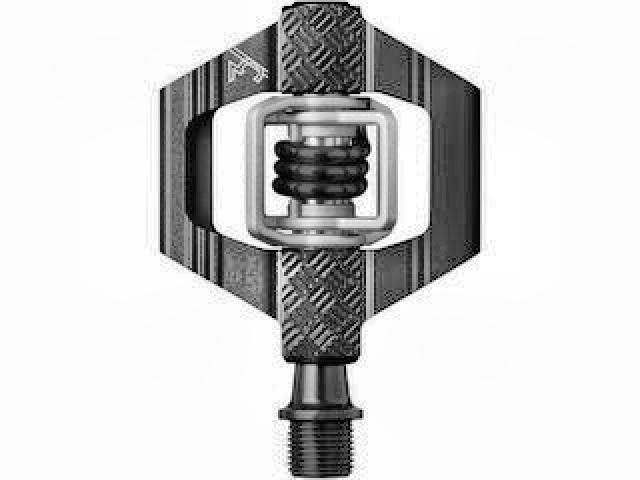pedal: (152, 6, 484, 471)
